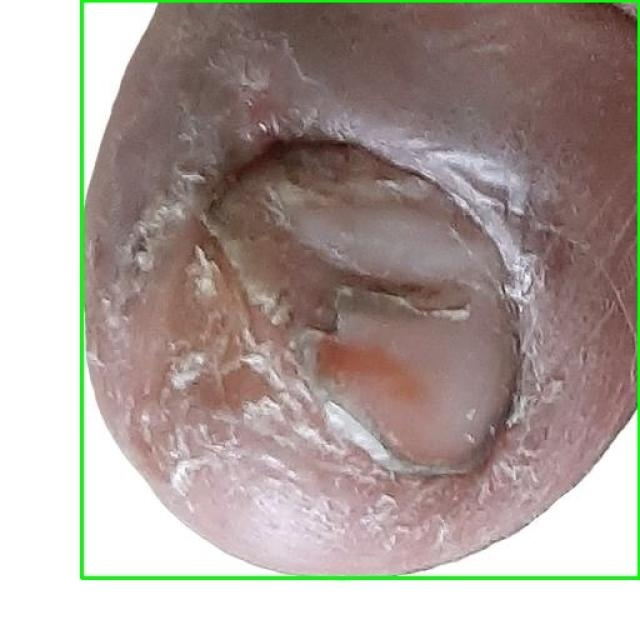Contact Dermatitis: (81, 0, 639, 578)
